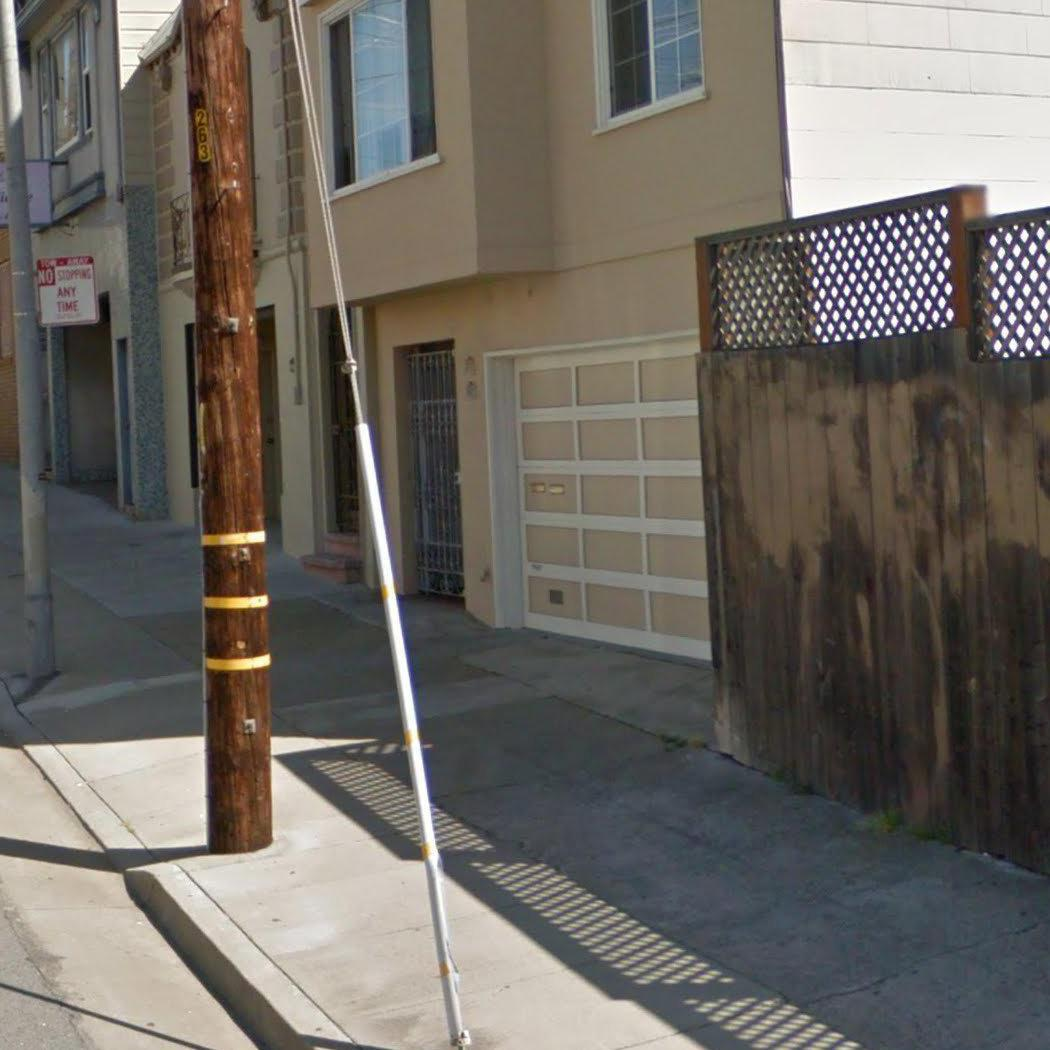No Parking Anytime: (34, 254, 98, 328)
